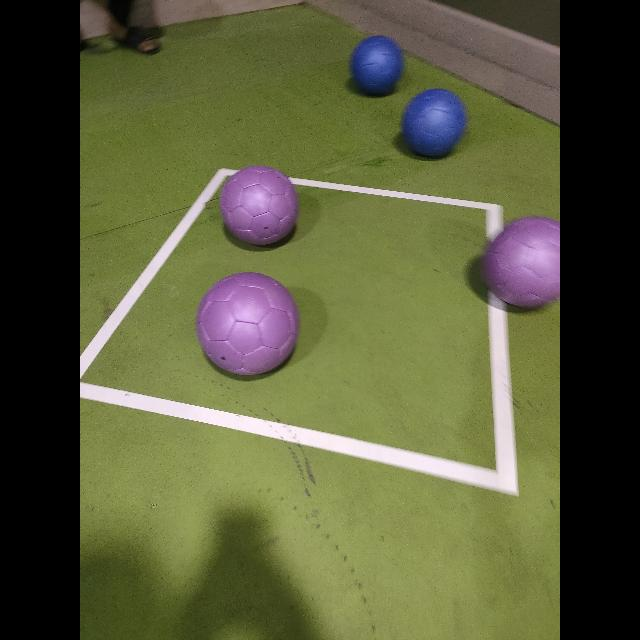B: (402, 90, 464, 158), (348, 34, 407, 98)
P: (196, 272, 300, 374), (482, 217, 560, 307), (220, 166, 298, 244)
